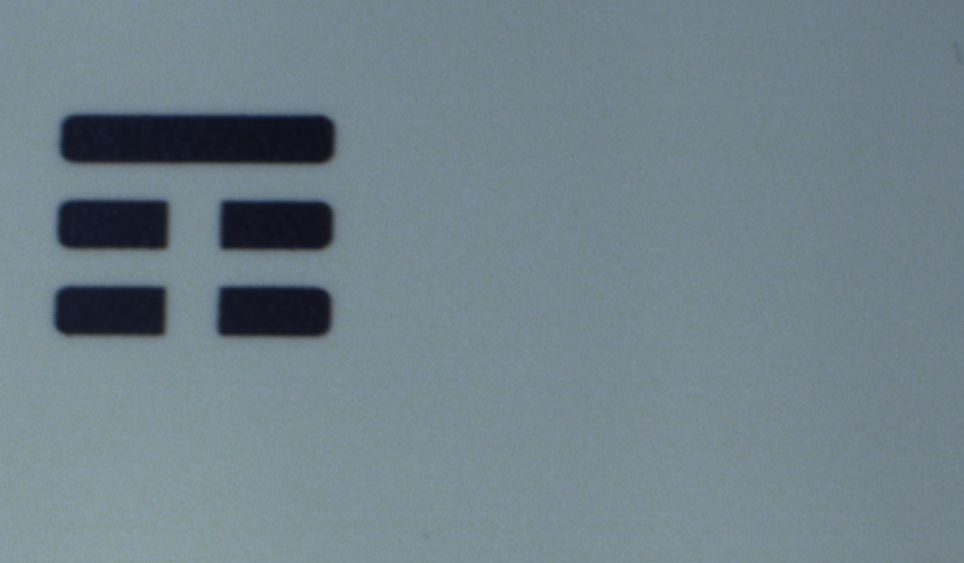BV_F6600PTIM: (37, 99, 353, 344)
